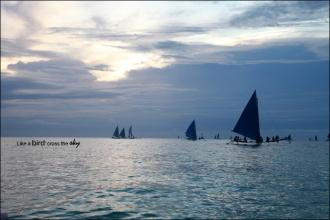fanchuan: (226, 85, 278, 150), (183, 117, 204, 141), (126, 123, 136, 142), (110, 124, 121, 139), (120, 126, 127, 140)
